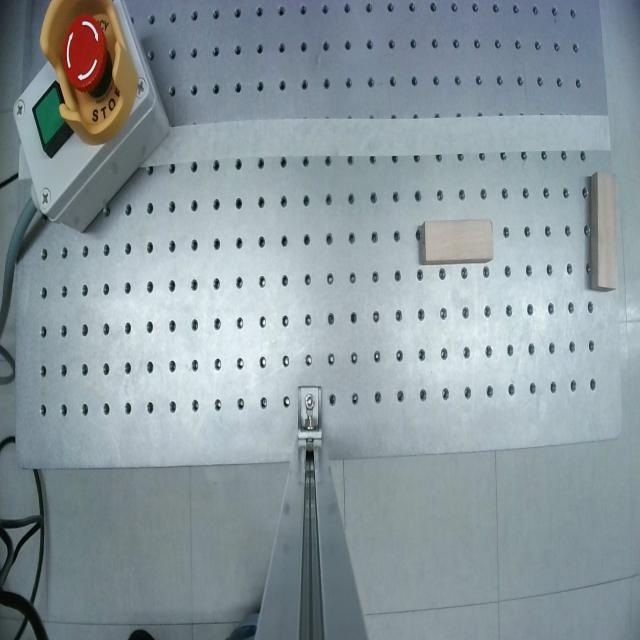wood: (424, 219, 493, 261), (598, 173, 617, 288)
